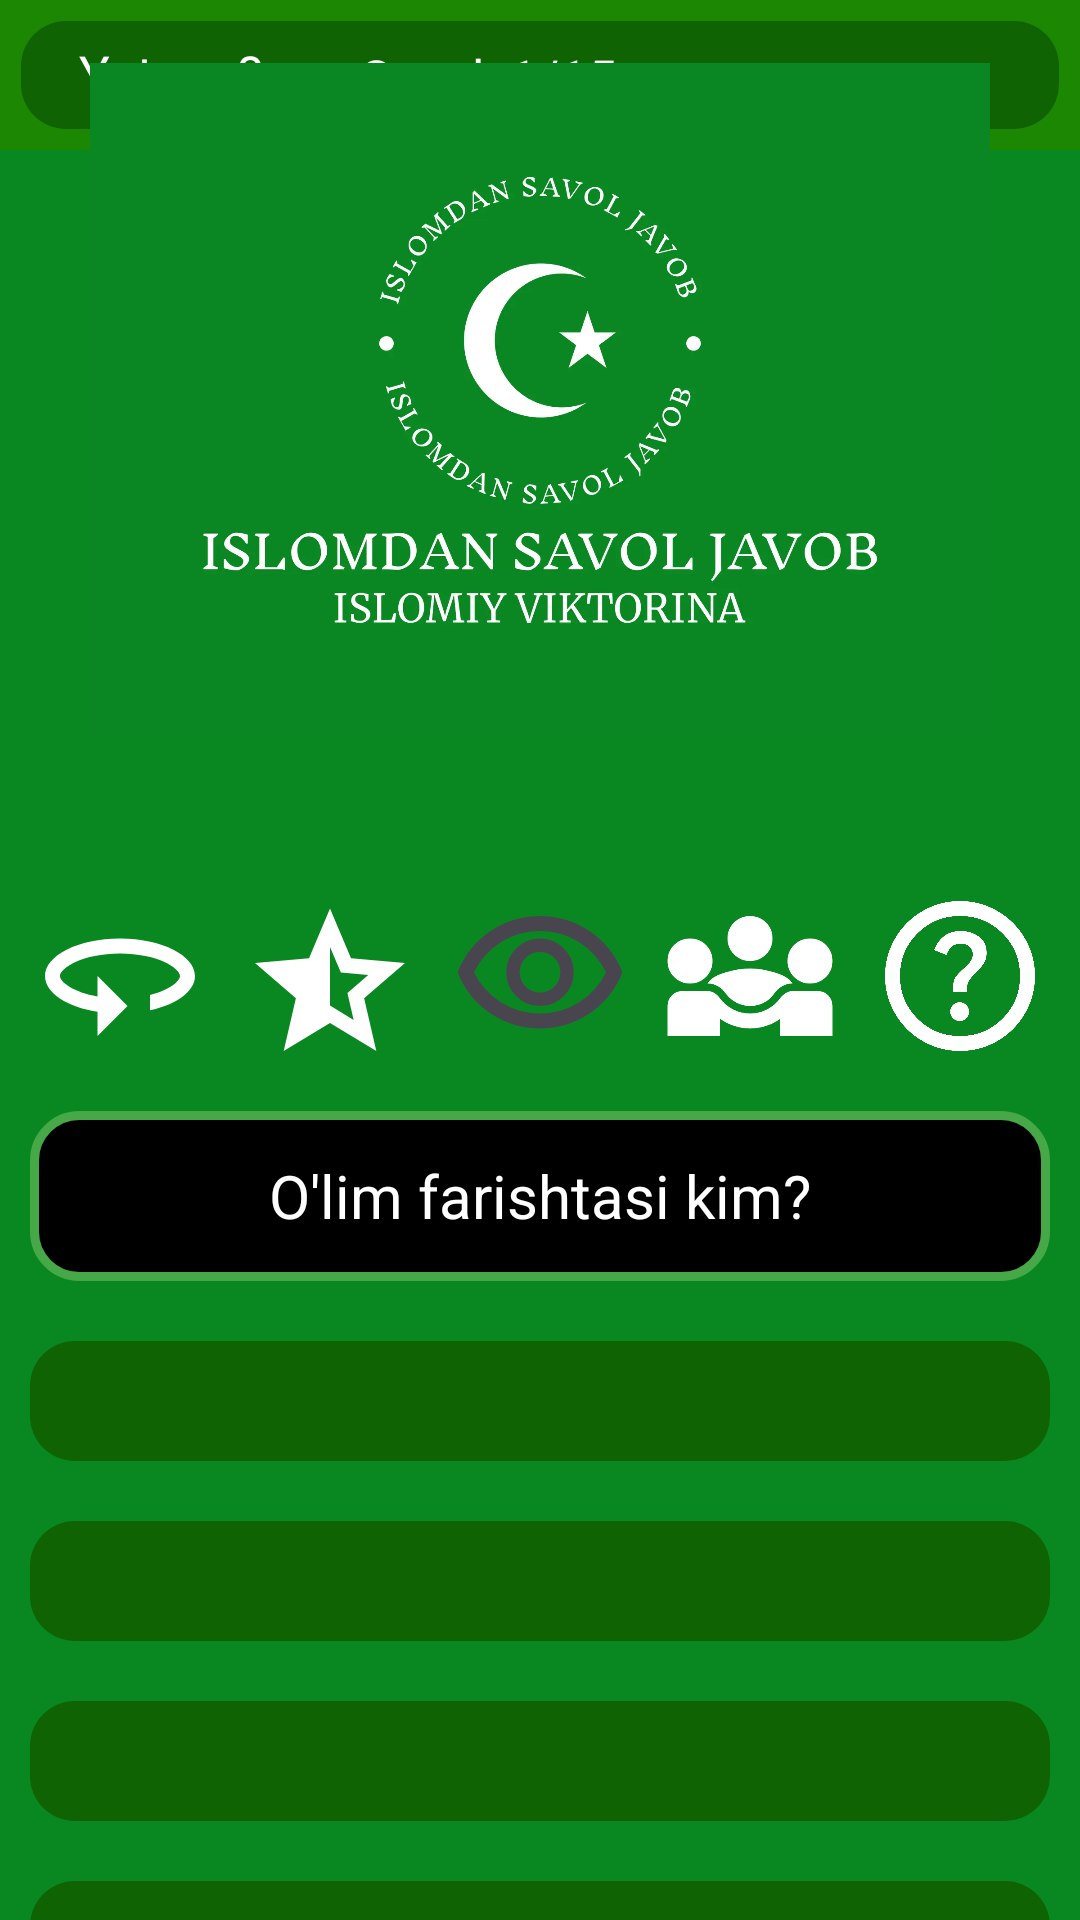

Where to tap for icons on this 1080 × 1920 app screen, as point (x, y):
change: point (120, 987)
eye: point (540, 972)
friend: point (750, 976)
half: point (330, 980)
help: point (960, 976)
